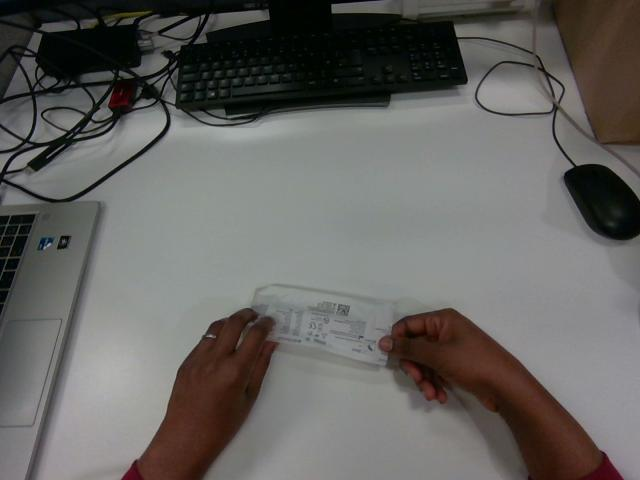syringe: (252, 285, 393, 364)
